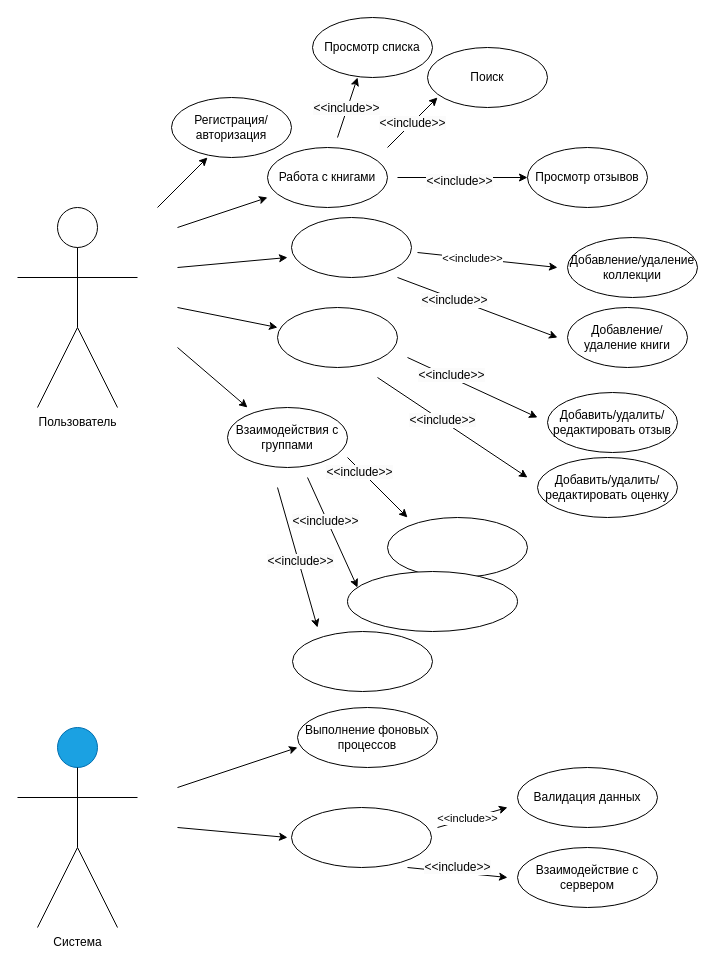
The diagram is 715 pixels wide and 975 high, and some of its shapes have lost their labels. Here are the shapes that lost their labels. From the top down, the centre of each, then its label:
At pixel 351 247: "Работа с коллекциями".
At pixel 337 337: "Оценки и отзывы".
At pixel 457 547: "Создание/удаление группы".
At pixel 432 601: "Приглашение/исключение участников".
At pixel 362 661: "Добавление книг в группу".
At pixel 361 837: "Обработка действий пользователя".
